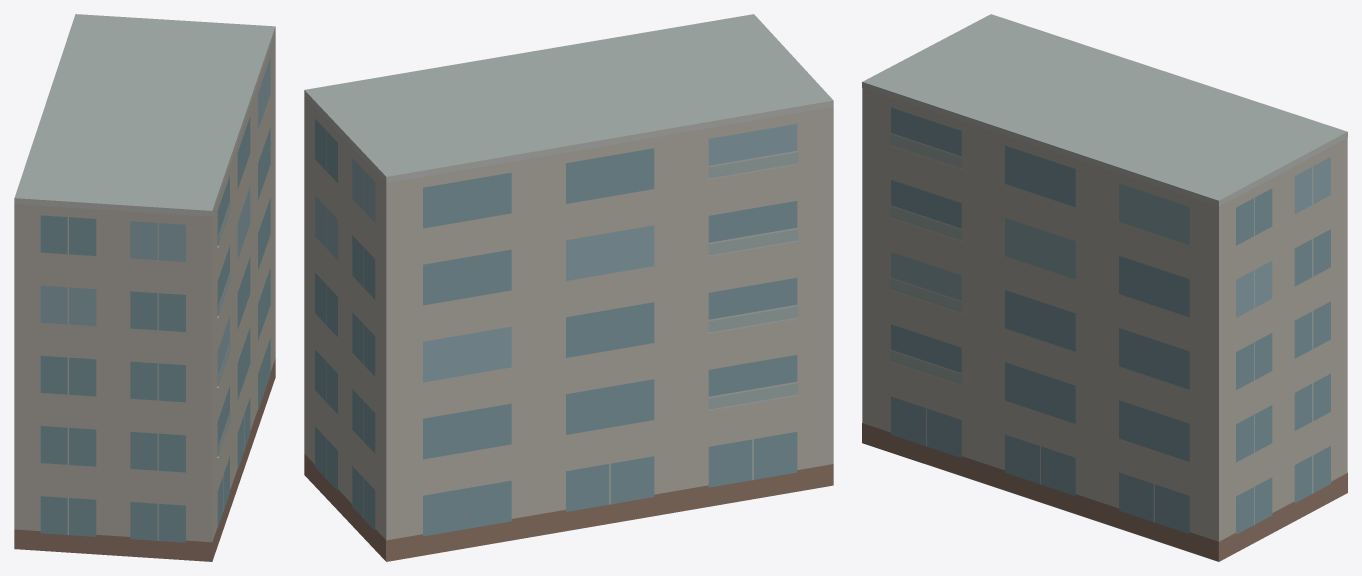
The model's file is survey-upis-32882576.glb.
3 renders of one model, left to right at view 1: azimuth 30°, elevation 25°; view 2: azimuth 150°, elevation 25°; view 3: azimuth 270°, elevation 25°, orthographic. The views are drawn at different scales.
Parts seen in each view (by area): view 1: survey-upis-32882576.tmp; view 2: survey-upis-32882576.tmp; view 3: survey-upis-32882576.tmp.
Boxes of the visible parts, box(x1,y1,x2,y2) form: survey-upis-32882576.tmp: box(14, 14, 275, 561); survey-upis-32882576.tmp: box(304, 14, 833, 561); survey-upis-32882576.tmp: box(862, 14, 1347, 561).
Bounding box in the file's own units: 16.31 × 14.7 × 17.92.
